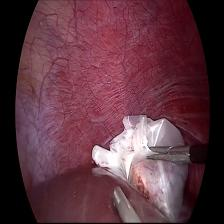Grasper: (146, 144, 198, 167)
Irrigator: (111, 184, 130, 218)
Specimen Bag: (92, 102, 200, 196)
